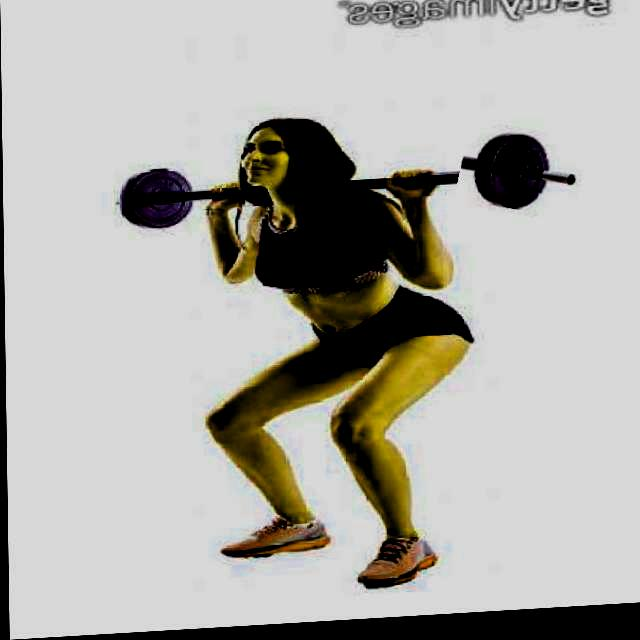barbell: (454, 116, 600, 247)
